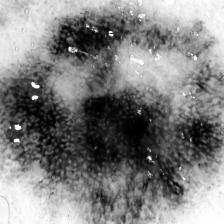Benign Marking or Mole: (0, 19, 224, 206)
